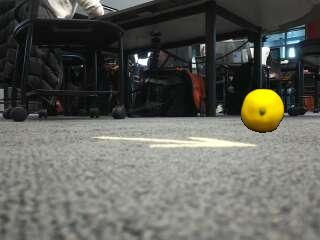lemon: (241, 89, 284, 133)
